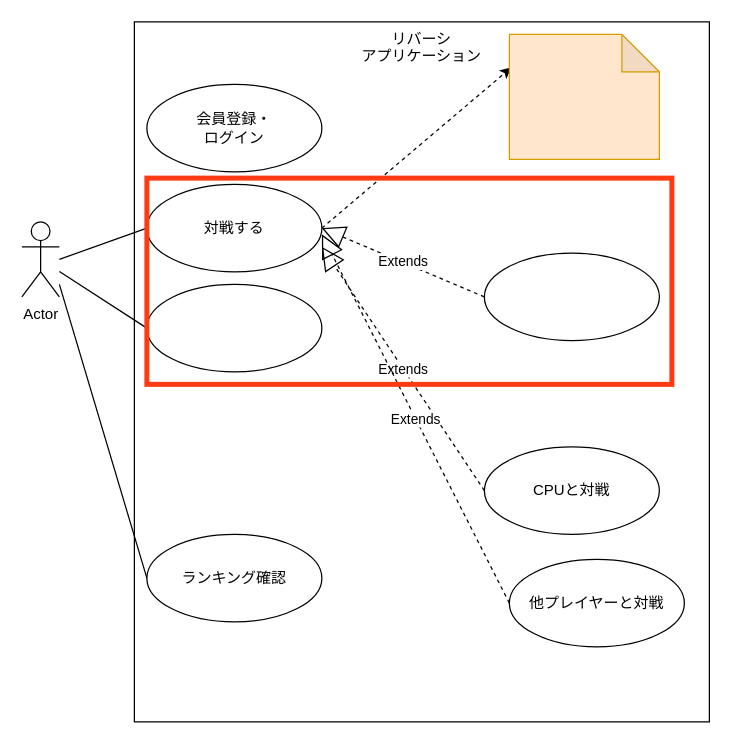
Some shapes in this 731 by 744 pixel diagram are drawn without their labels. Each missing label, with the box of its shape:
・対戦開始 ・盤面を見る ・石を打つ ・勝敗を確認する: (508, 33, 659, 159)
一人で交互に: (483, 252, 659, 341)
対戦履歴確認: (146, 283, 322, 372)
